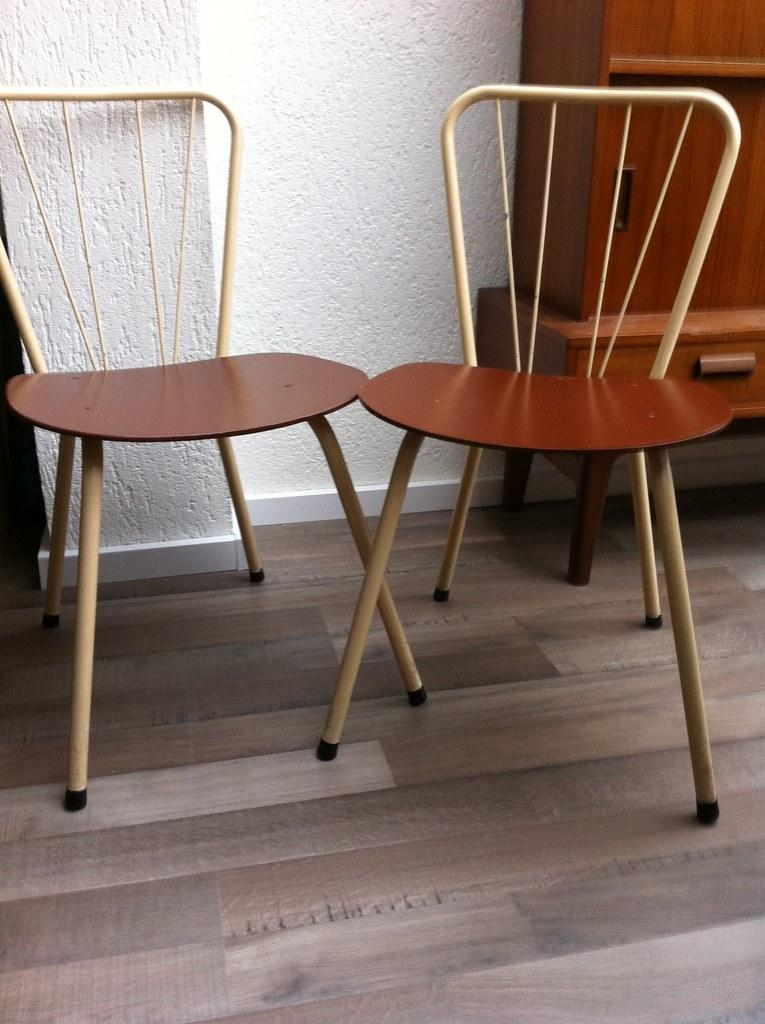chair: (317, 83, 742, 825), (1, 87, 429, 812)
